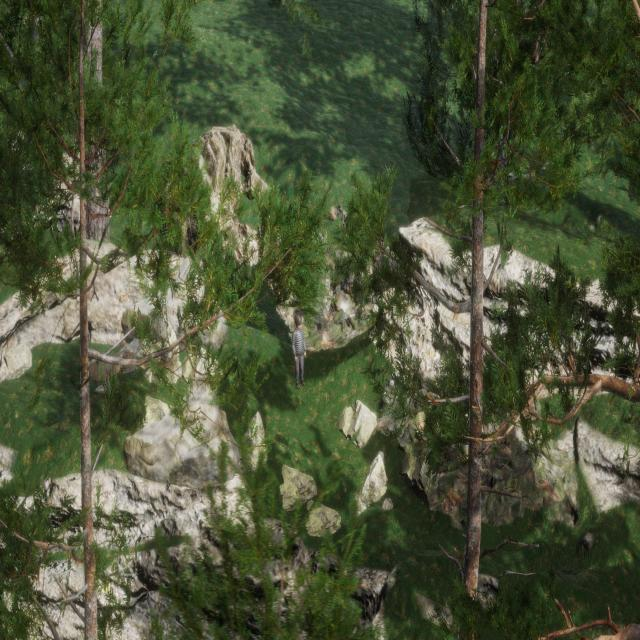Human: (288, 306, 310, 395)
